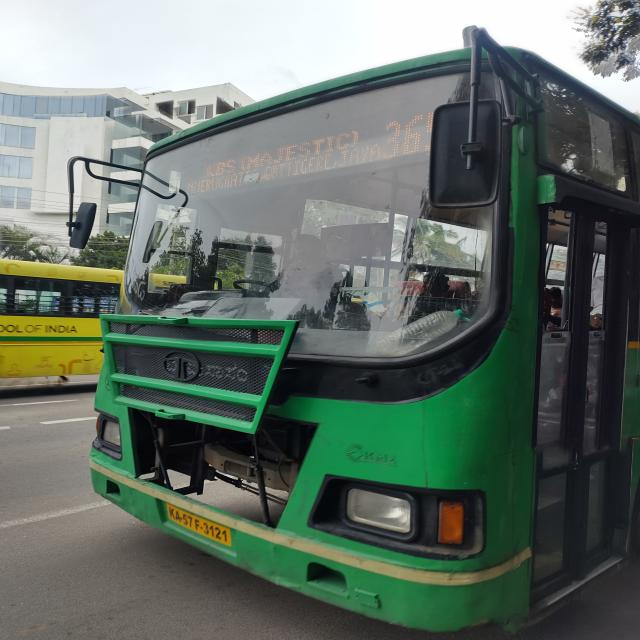bus: (52, 35, 640, 640)
display: (179, 109, 459, 199)
dnumber: (380, 111, 437, 160)
